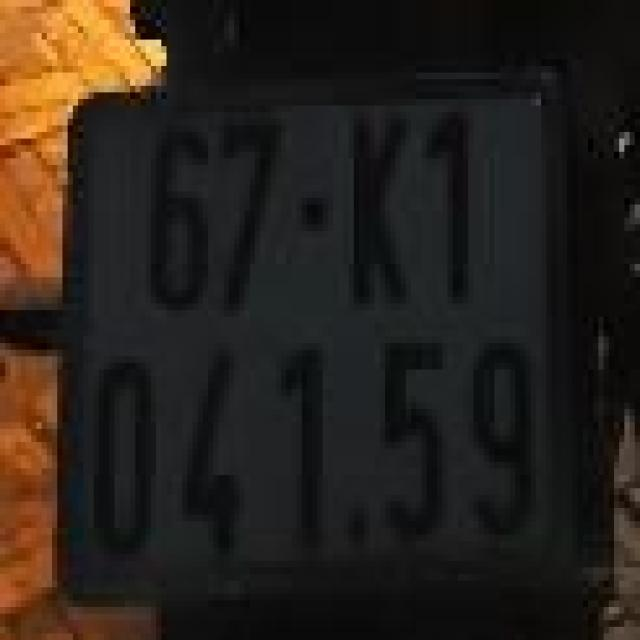0: (91, 350, 159, 567)
1: (270, 333, 344, 564), (432, 106, 489, 310)
4: (166, 346, 250, 571)
5: (367, 323, 460, 554)
6: (148, 109, 211, 320)
7: (226, 102, 294, 327)
9: (478, 323, 552, 561)
K: (341, 109, 419, 313)
